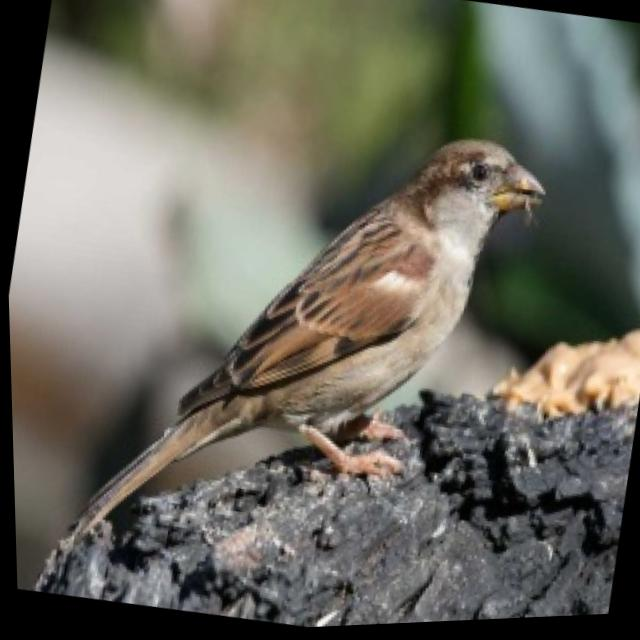sparrow: (51, 69, 570, 620)
